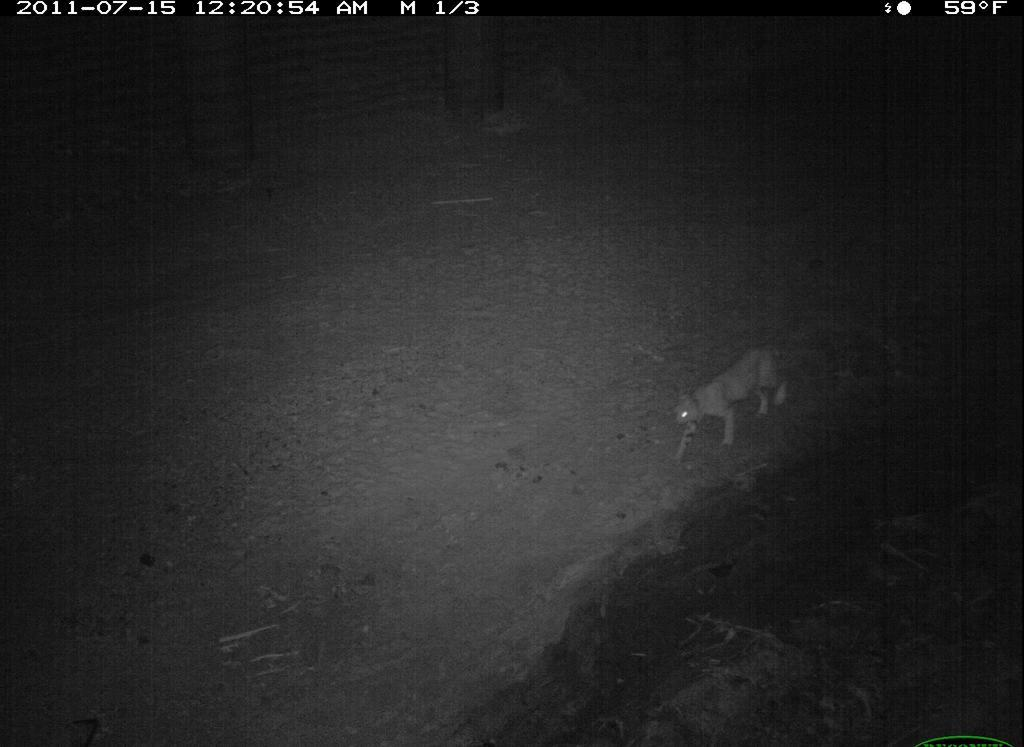bobcat: (665, 344, 801, 457)
